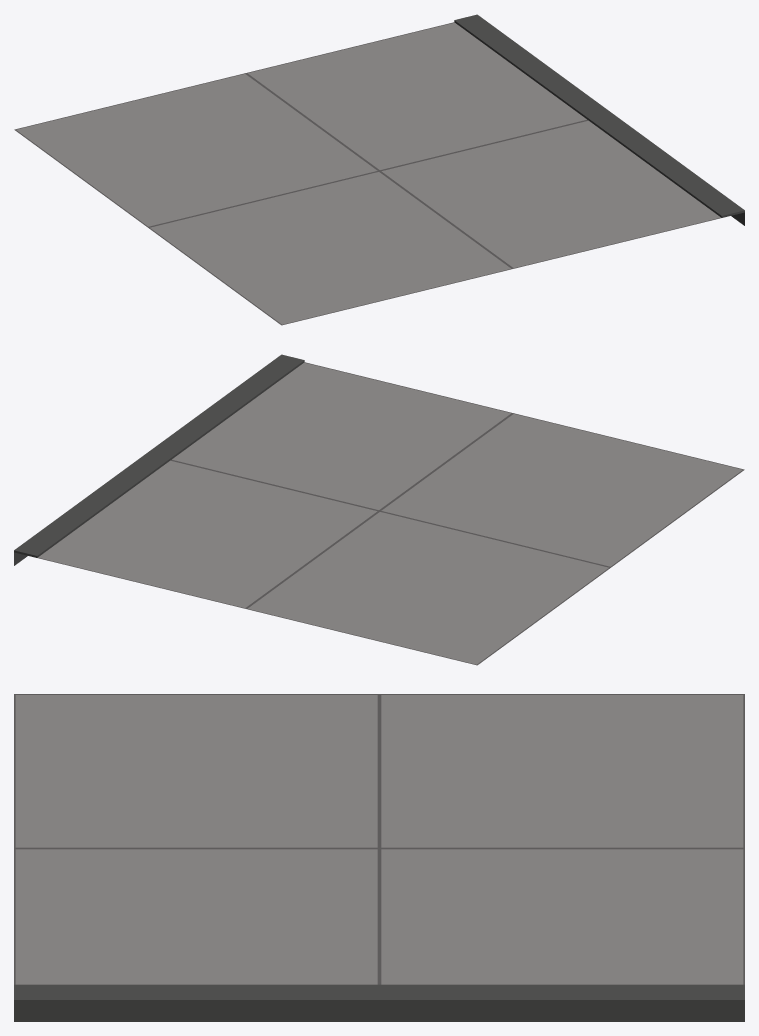
Rendered from M_SideWalk350x350_02.fbx.
The picture shows the model from 3 angles, top to bottom: view 1: azimuth 30°, elevation 25°; view 2: azimuth 150°, elevation 25°; view 3: azimuth 270°, elevation 25°; orthographic projection. The views are drawn at different scales.
Visible parts, largest first — view 1: M_SideWalk350x350_02; view 2: M_SideWalk350x350_02; view 3: M_SideWalk350x350_02.
Part boxes in pixels (x1=…): M_SideWalk350x350_02: x1=14, y1=14, x2=744, y2=325; M_SideWalk350x350_02: x1=14, y1=354, x2=744, y2=665; M_SideWalk350x350_02: x1=14, y1=694, x2=744, y2=1021.
Bounding box in the file's own units: 350 × 350 × 11.5.
